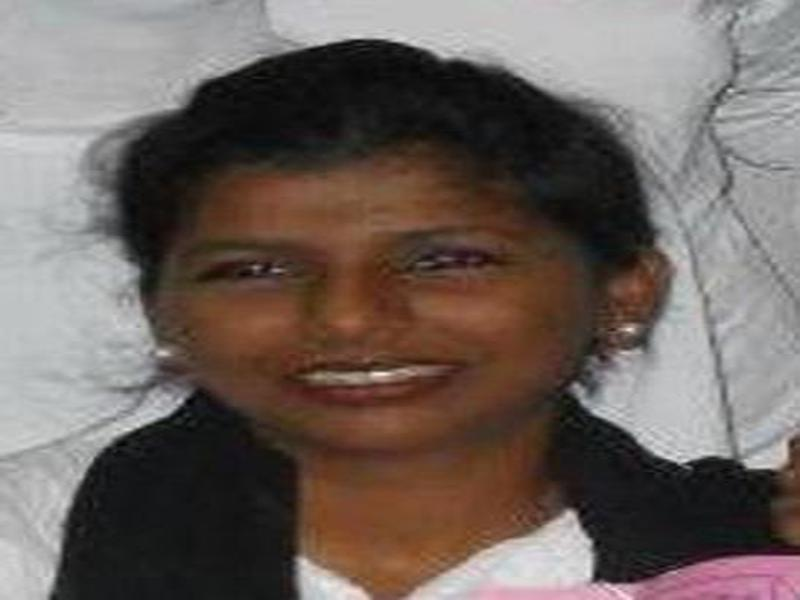without_mask: (149, 180, 597, 444)
